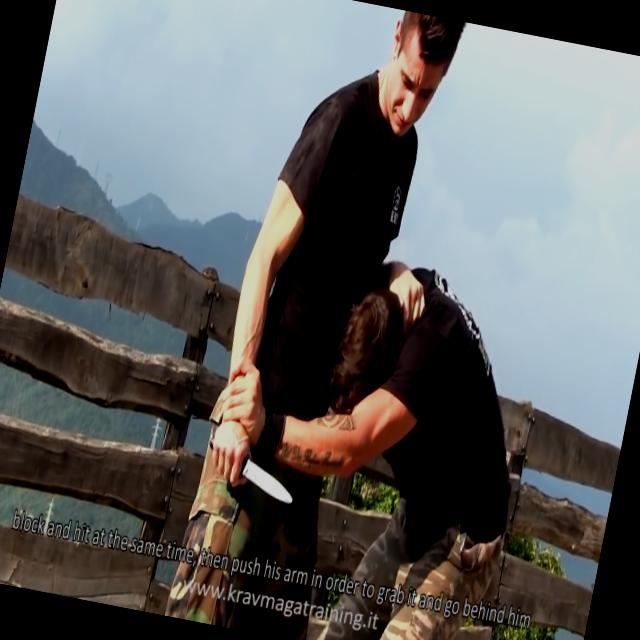knife: (195, 416, 308, 512)
